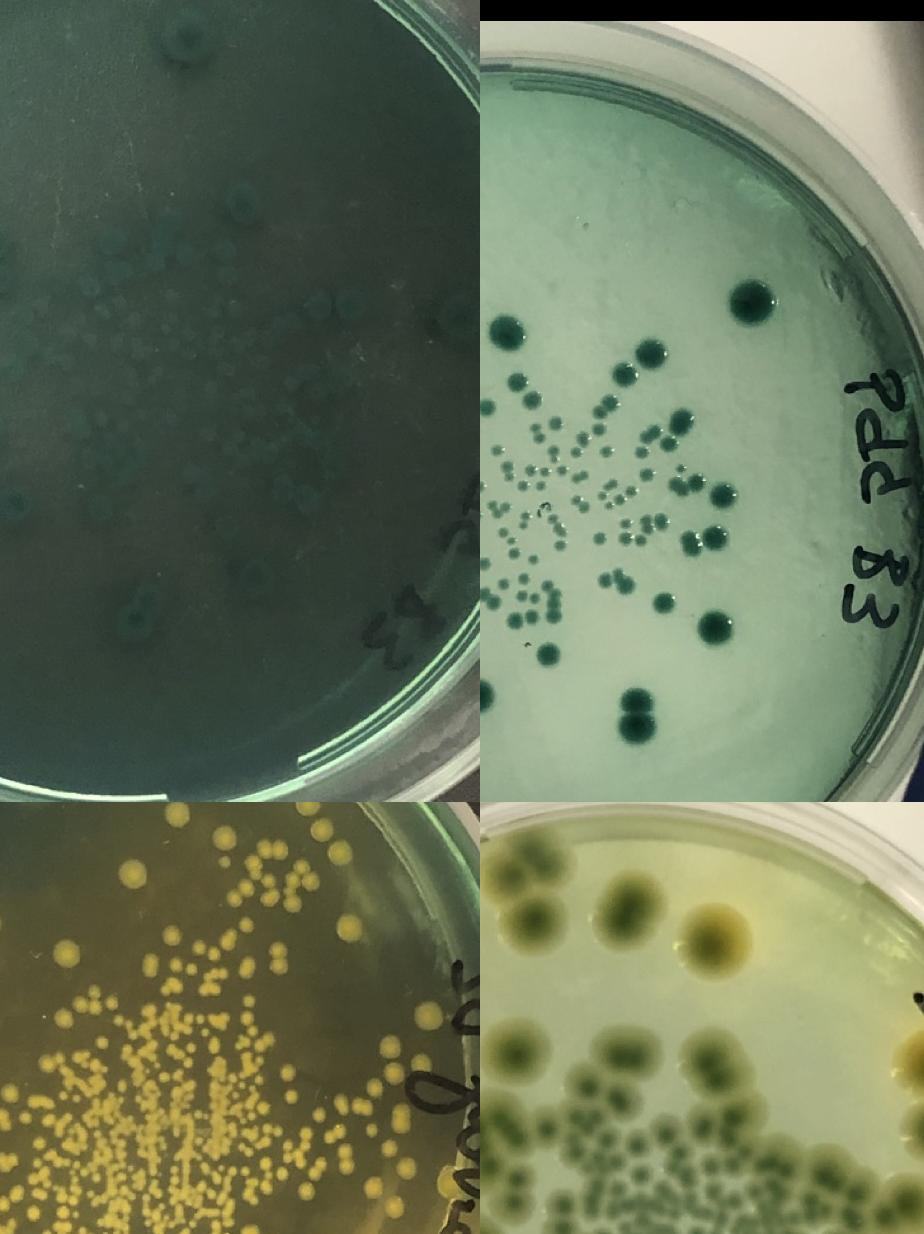pddamselae: (119, 584, 162, 637), (620, 686, 656, 744), (170, 14, 212, 54), (730, 284, 772, 323), (488, 316, 524, 350), (632, 336, 668, 370), (697, 612, 733, 646), (540, 579, 562, 622), (224, 192, 255, 222), (0, 489, 30, 519), (242, 562, 272, 592), (304, 290, 334, 320), (84, 492, 113, 522), (450, 302, 479, 332), (96, 226, 124, 256), (294, 485, 322, 515), (592, 392, 621, 420), (496, 527, 519, 559), (212, 236, 236, 260), (302, 380, 326, 404), (216, 264, 239, 288), (216, 512, 239, 536), (480, 395, 497, 427), (484, 500, 512, 518), (505, 371, 527, 393), (522, 389, 544, 411), (537, 646, 559, 668), (653, 592, 675, 614), (671, 409, 693, 431), (680, 534, 702, 556), (704, 528, 726, 550), (711, 486, 733, 508), (480, 679, 494, 713), (614, 365, 635, 387), (0, 266, 14, 296), (569, 494, 589, 514), (480, 588, 499, 609), (604, 493, 625, 512), (641, 424, 661, 443), (546, 513, 564, 534), (668, 478, 690, 495), (526, 463, 550, 478), (568, 470, 590, 485), (530, 422, 544, 444), (501, 461, 515, 482), (640, 515, 654, 535), (659, 436, 676, 452), (516, 511, 530, 530), (547, 444, 559, 463), (507, 615, 522, 627), (490, 445, 504, 457), (526, 555, 540, 567), (526, 612, 540, 624), (548, 418, 562, 430), (576, 433, 590, 445), (593, 425, 607, 437), (594, 490, 608, 502), (598, 576, 612, 588), (604, 478, 618, 490), (618, 579, 632, 591), (640, 469, 654, 481), (654, 515, 668, 527), (497, 579, 509, 591), (515, 591, 527, 603), (518, 481, 530, 493), (518, 573, 530, 585), (529, 593, 541, 605), (534, 480, 546, 492), (554, 540, 566, 552), (557, 464, 569, 476), (570, 447, 582, 459), (594, 533, 606, 545), (611, 567, 623, 579), (620, 517, 632, 529), (620, 532, 632, 544), (625, 486, 637, 498), (634, 534, 646, 546), (635, 446, 647, 458), (675, 462, 687, 474), (601, 445, 612, 457), (480, 558, 490, 570), (480, 480, 486, 492)
valgino: (496, 885, 570, 959), (676, 904, 750, 978), (480, 1013, 551, 1088), (898, 1032, 924, 1094), (488, 1190, 532, 1225), (904, 1100, 924, 1162), (537, 1109, 560, 1147), (506, 1167, 532, 1192)
vharveyi: (73, 984, 119, 1018), (244, 840, 288, 874), (364, 1062, 405, 1098), (281, 856, 320, 893), (280, 1126, 312, 1170), (49, 938, 81, 970), (116, 858, 148, 890), (412, 1000, 444, 1032), (331, 914, 364, 944), (224, 878, 255, 908), (210, 823, 238, 853), (161, 802, 193, 828), (164, 1043, 196, 1069), (267, 940, 290, 976), (257, 1157, 290, 1181), (326, 840, 354, 868), (257, 872, 278, 908), (308, 818, 336, 844), (376, 1034, 404, 1060), (166, 954, 198, 976), (190, 940, 222, 962), (50, 1006, 74, 1030), (362, 1176, 386, 1200), (382, 1196, 406, 1220), (394, 1157, 418, 1181), (238, 994, 255, 1026), (336, 1144, 354, 1174), (320, 1124, 346, 1144), (293, 802, 321, 817), (0, 1083, 19, 1105), (278, 1063, 298, 1083), (280, 895, 300, 915), (295, 1182, 315, 1202), (308, 1158, 326, 1180), (379, 1139, 397, 1159), (260, 1122, 283, 1137), (158, 1071, 182, 1084), (182, 1012, 206, 1024), (281, 1090, 298, 1106), (24, 1204, 39, 1222), (362, 1122, 378, 1138), (238, 918, 254, 933), (310, 1108, 326, 1122), (94, 1036, 109, 1050), (17, 1112, 31, 1126), (31, 1136, 45, 1150), (217, 855, 230, 869), (208, 984, 222, 996), (0, 1196, 9, 1212), (30, 1157, 42, 1169), (238, 1165, 250, 1177), (242, 1147, 254, 1159), (252, 1073, 264, 1085)
